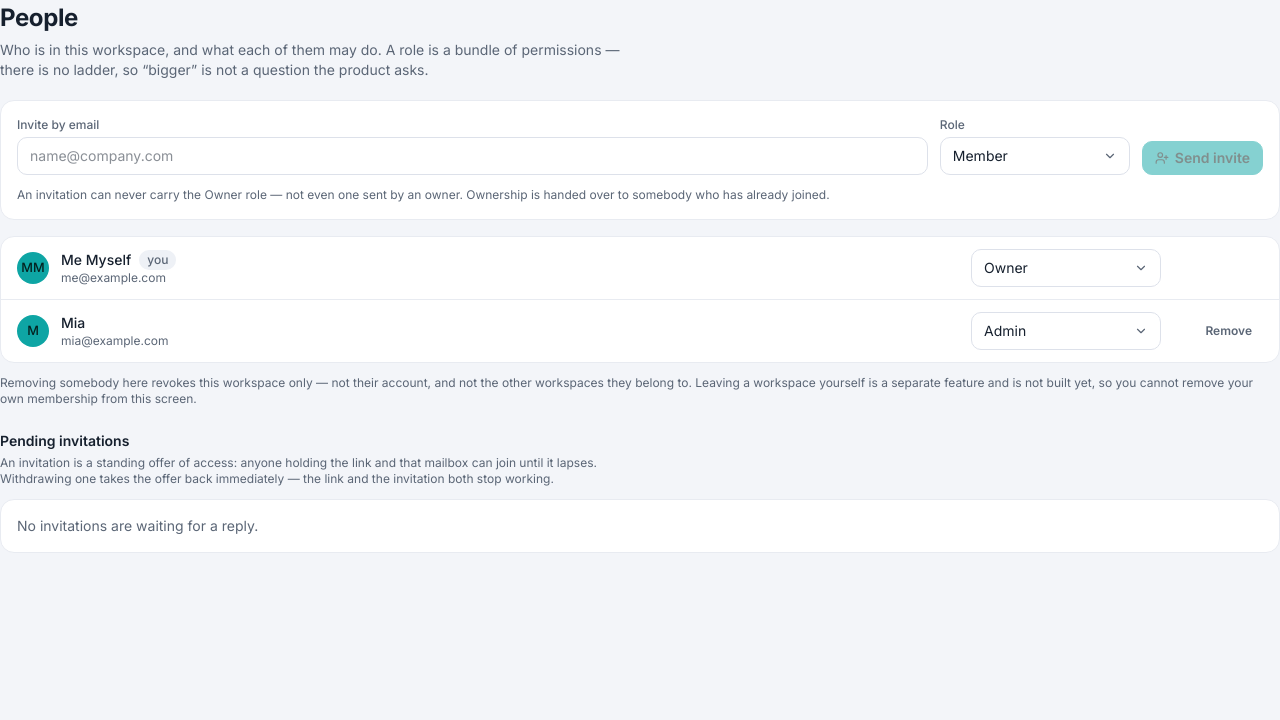
Test: WorkspacePeoplePage — removal, and the three refusals › ADOPTION_BLOCKED: renders the reason and offers NO adopt button
Expected: the text "Mia" is shown, [61, 313, 85, 333]
Click the button "Remove". click: (1229, 331)
box: [1194, 318, 1263, 344]
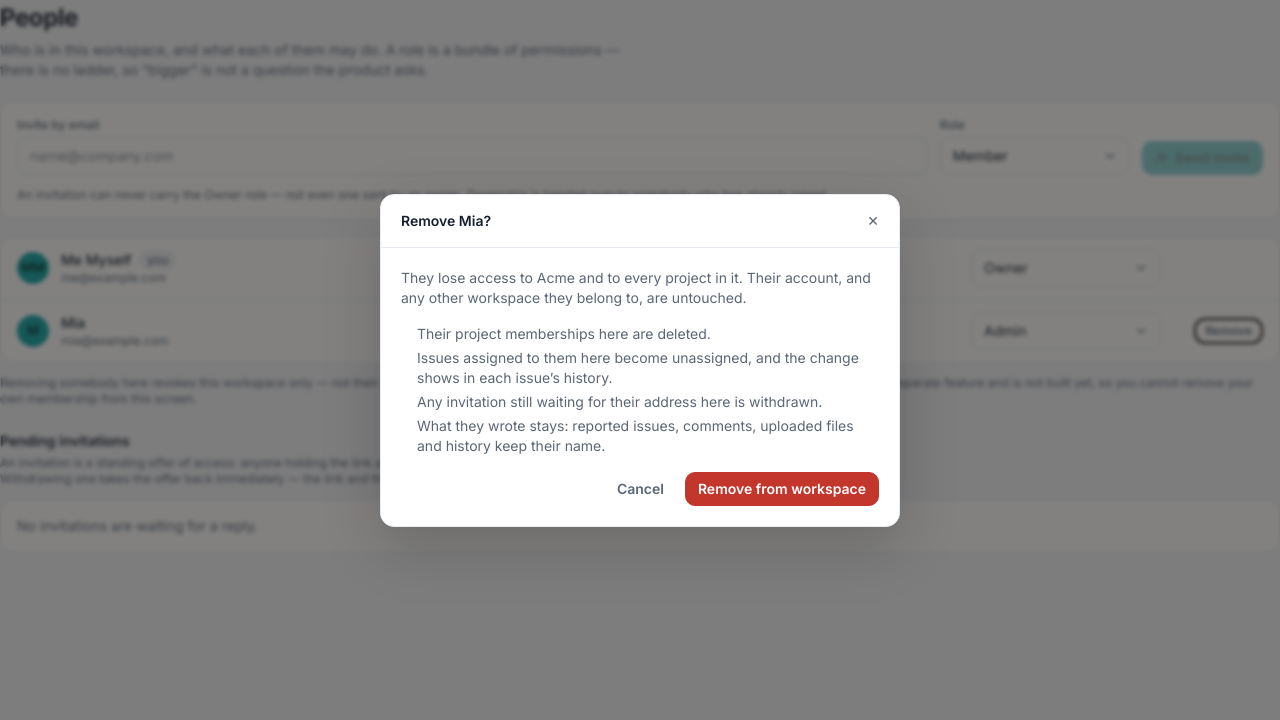
Result: the button "Remove from workspace" is shown
Click the button "Remove from workspace". click: (782, 488)
box: [685, 472, 879, 506]
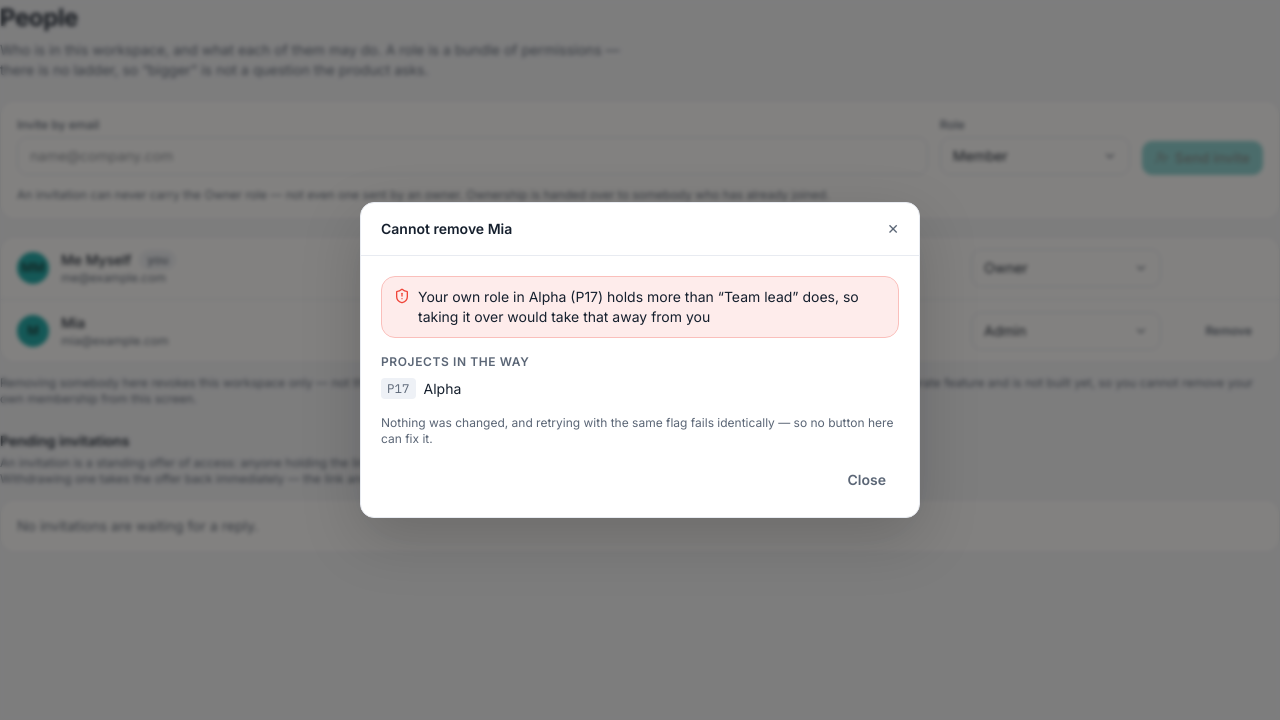
Result: the text "would take that away from you" is shown at [418, 288, 859, 325]
Result: the text "Projects in the way" is shown at [381, 354, 529, 369]
